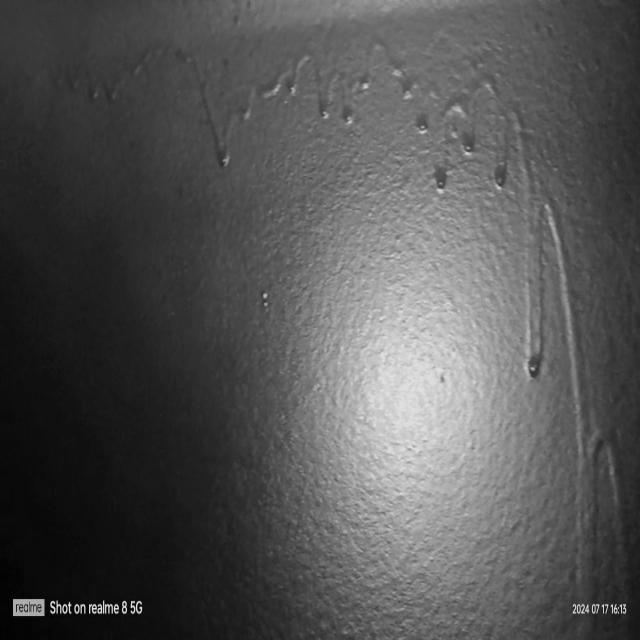paint drips: (33, 30, 512, 204), (513, 94, 635, 640)
